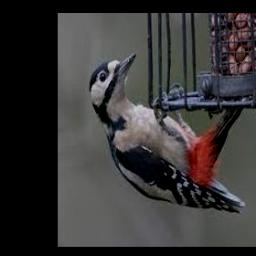Woodpecker: (89, 52, 245, 213)
